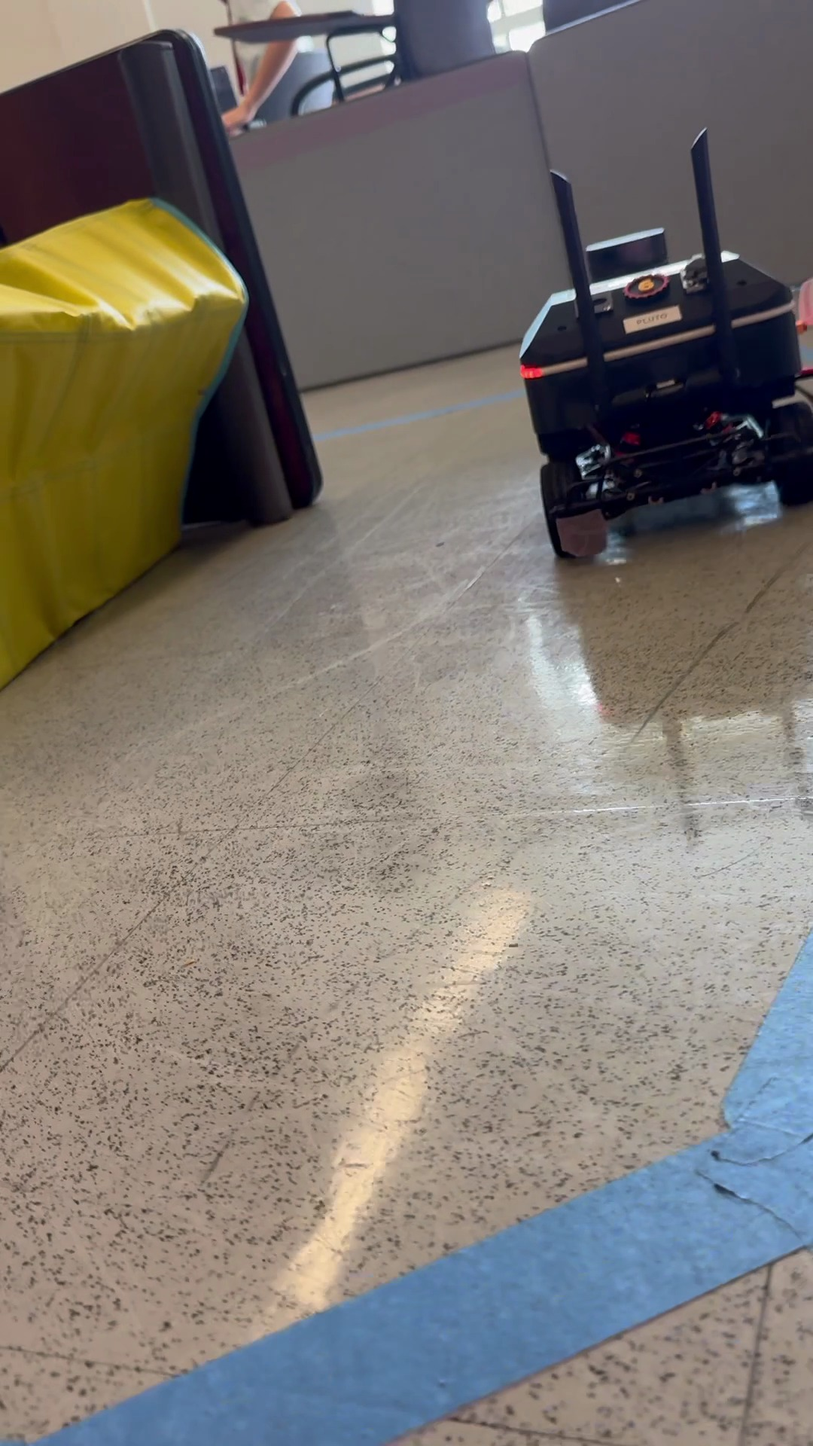racecar: (510, 130, 813, 567)
